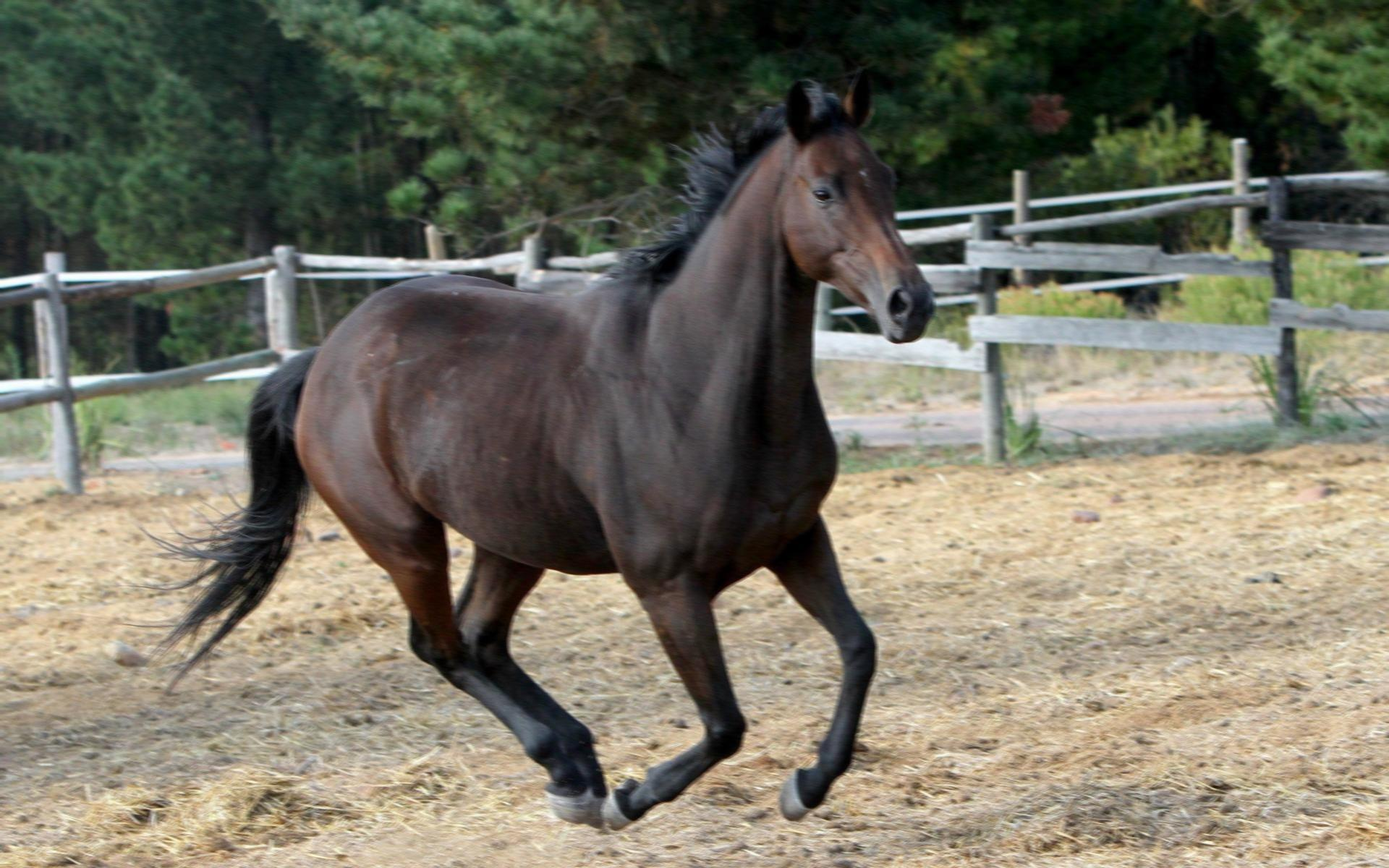horse: (117, 58, 943, 840)
